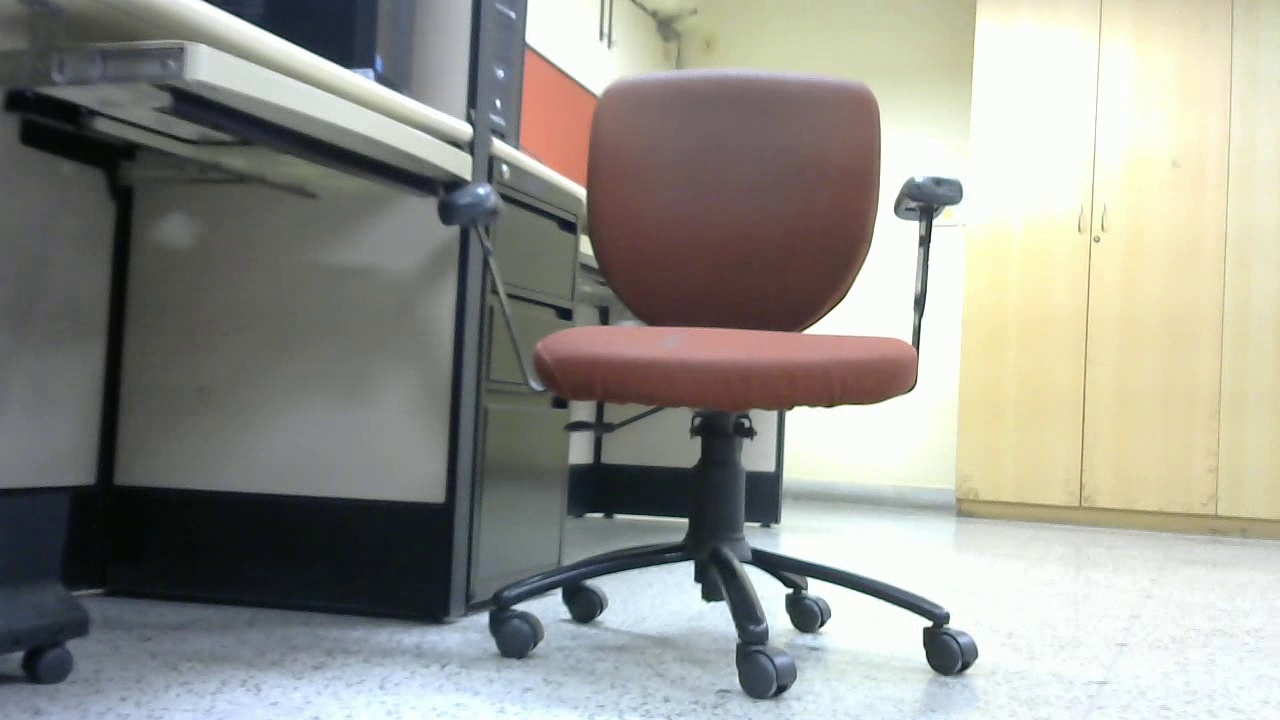chair: (626, 219, 881, 560), (284, 190, 460, 511)
